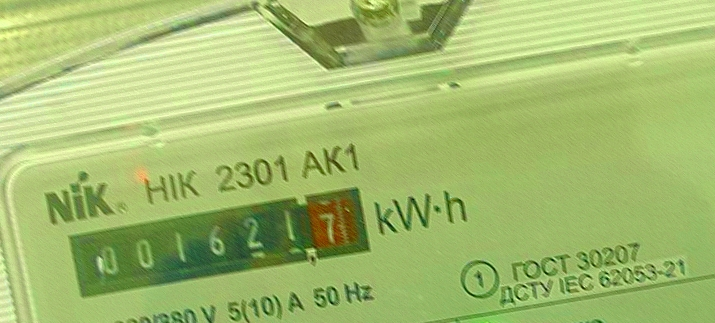0: (131, 233, 157, 273), (96, 240, 121, 277)
1: (170, 227, 189, 265), (279, 205, 298, 243)
2: (240, 213, 266, 251)
6: (204, 222, 227, 258)
7: (315, 208, 340, 246)
screen: (61, 183, 377, 304)
